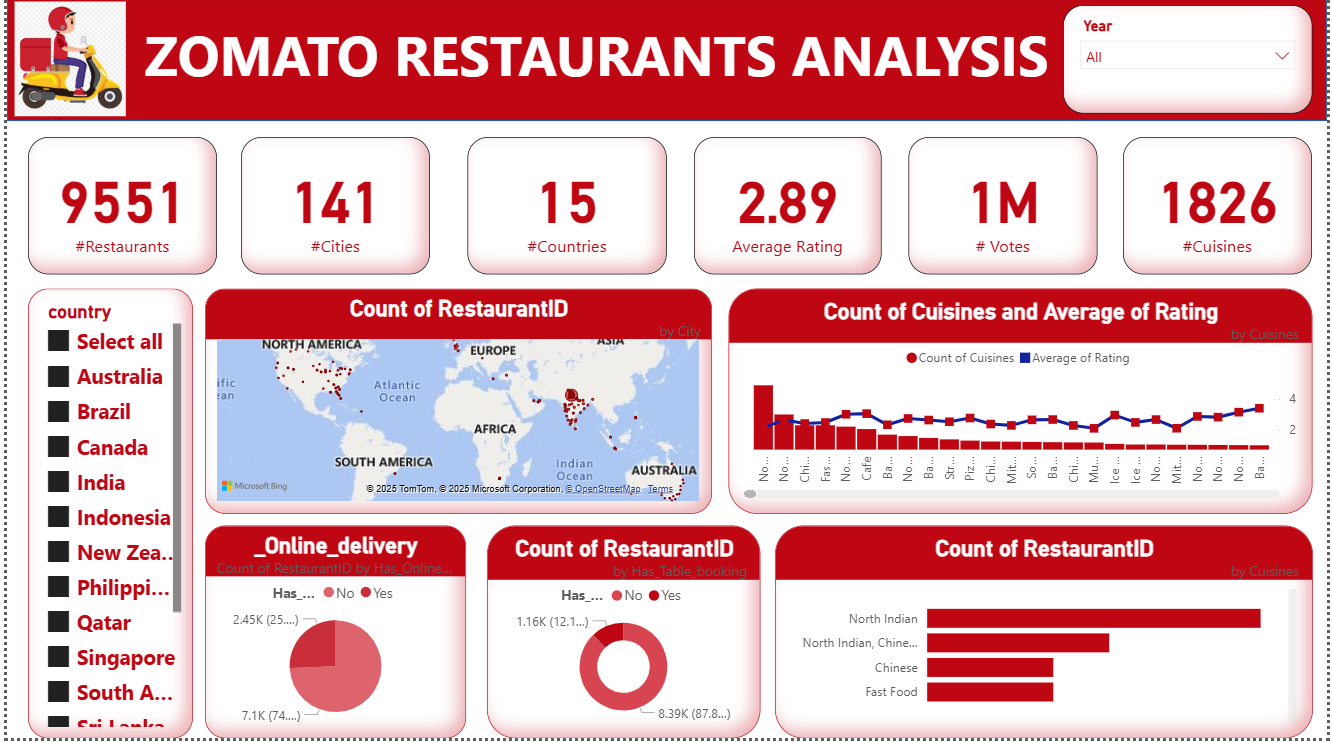

Layout of this report page (visuals, bound fields, positions):
{"tool":"powerbi","page":{"name":"Page 1","canvas":[1280,720],"ordinal":0},"visuals":[{"type":"shape","box":[0,0,1280.8,121.4],"z":0},{"type":"image","box":[0,0,123.1,121.4],"z":1000},{"type":"textbox","box":[123.3,15,896.7,93.3],"z":2000},{"type":"card","fields":{"Values":["CountNonNull(resturants.RestaurantID)"]},"box":[20,136.7,183.3,133.3],"z":3000},{"type":"card","fields":{"Values":["Count(resturants.City)"]},"box":[226.7,136.7,183.3,133.3],"z":4000},{"type":"card","fields":{"Values":["Count(resturants.CountryCode)"]},"box":[446.7,136.7,193.3,133.3],"z":5000},{"type":"card","fields":{"Values":["Avg(resturants.Rating)"]},"box":[666.7,136.7,181.7,133.3],"z":6000},{"type":"card","fields":{"Values":["Sum(resturants.Votes)"]},"box":[875,136.7,183.3,133.3],"z":7000},{"type":"card","fields":{"Values":["Count(resturants.Cuisines)"]},"box":[1083.3,136.7,183.3,133.3],"z":8000},{"type":"slicer","fields":{"Values":["countries.country name"]},"box":[20,283.3,160,436.7],"z":9000},{"type":"lineStackedColumnComboChart","fields":{"Category":["resturants.Cuisines"],"Y":["CountNonNull(resturants.Cuisines)"],"Y2":["Avg(resturants.Rating)"]},"box":[700,283.3,566.7,218.3],"z":10000},{"type":"map","fields":{"Category":["resturants.City"],"Size":["CountNonNull(resturants.RestaurantID)"]},"box":[191.7,283.3,491.7,218.3],"z":11000},{"type":"clusteredBarChart","fields":{"Category":["resturants.Cuisines"],"Y":["CountNonNull(resturants.RestaurantID)"]},"box":[745,513.3,521.7,206.7],"z":12000},{"type":"pieChart","title":"_Online_delivery","fields":{"Category":["resturants.Has_Online_delivery"],"Y":["CountNonNull(resturants.RestaurantID)"]},"box":[191.7,513.3,253.3,206.7],"z":13000},{"type":"donutChart","fields":{"Category":["resturants.Has_Table_booking"],"Y":["CountNonNull(resturants.RestaurantID)"]},"box":[465.5,513.8,265.5,206.9],"z":14000},{"type":"slicer","fields":{"Values":["resturants.Datekey_Opening.Variation.Date Hierarchy.Year"]},"box":[1025,8.3,241.7,105],"z":15000}]}

Visuals, with their boxes in screenshot pixels (x1, y1, x2, y2), scaled from the page's 1280x720 canvas onto the 1332x742 screenshot:
shape: 0,0,1331,125
image: 0,0,128,125
textbox: 128,15,1061,112
card - CountNonNull(resturants.RestaurantID): 21,141,212,278
card - Count(resturants.City): 236,141,427,278
card - Count(resturants.CountryCode): 465,141,666,278
card - Avg(resturants.Rating): 694,141,883,278
card - Sum(resturants.Votes): 911,141,1101,278
card - Count(resturants.Cuisines): 1127,141,1318,278
slicer - countries.country name: 21,292,187,741
lineStackedColumnComboChart - resturants.Cuisines x CountNonNull(resturants.Cuisines): 728,292,1318,517
map - resturants.City x CountNonNull(resturants.RestaurantID): 199,292,711,517
clusteredBarChart - resturants.Cuisines x CountNonNull(resturants.RestaurantID): 775,529,1318,741
"_Online_delivery" pieChart: 199,529,463,741
donutChart - resturants.Has_Table_booking x CountNonNull(resturants.RestaurantID): 484,529,761,741
slicer - resturants.Datekey_Opening.Variation.Date Hierarchy.Year: 1067,9,1318,117
